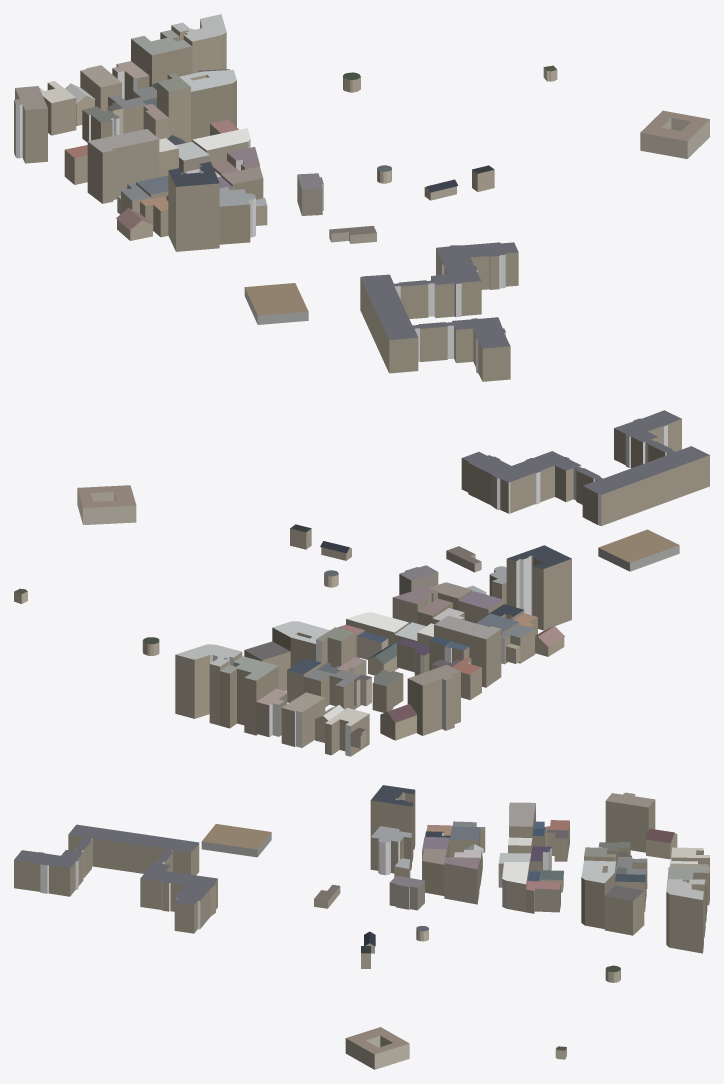
3 renders of one model, top to bottom at view 1: azimuth 30°, elevation 25°; view 2: azimuth 150°, elevation 25°; view 3: azimuth 270°, elevation 25°, orthographic. The views are drawn at different scales.
Visible parts, largest first — view 1: tuile; view 2: tuile; view 3: tuile.
Boxes of the visible parts, bbox=[...] form: tuile: bbox=[14, 14, 709, 381]; tuile: bbox=[14, 410, 709, 756]; tuile: bbox=[14, 785, 709, 1069].
Size of the model in its own units: 231 by 34.39 by 298.
